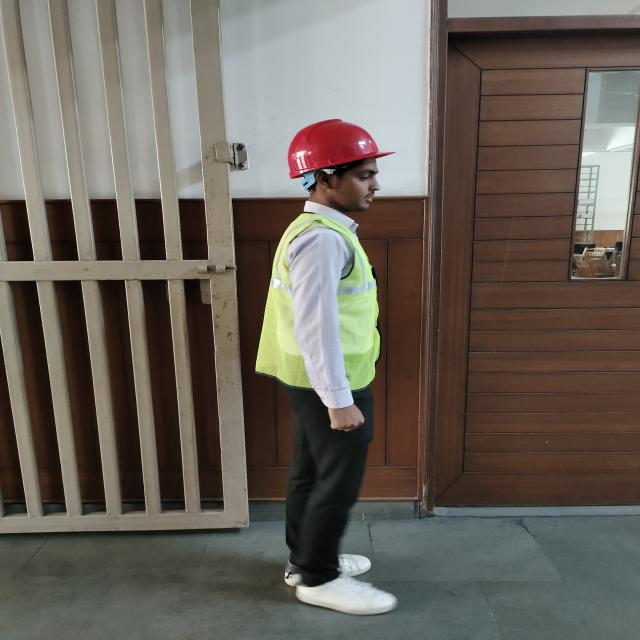safe: (255, 119, 395, 615)
